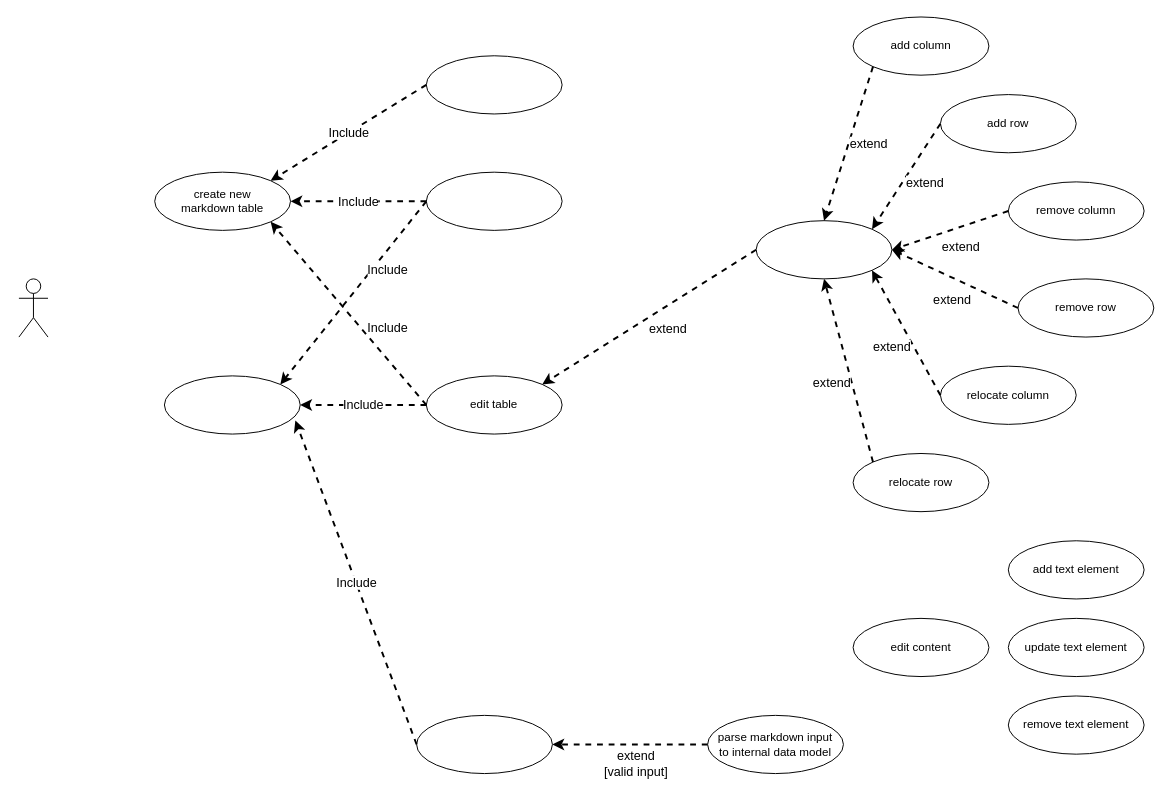
The diagram is 1171 pixels wide and 795 high, and some of its shapes have lost their labels. Here are the shapes that lost their labels. From the top down, the centre of each, then its label:
the point at 493,84: insert initial table width and height number
the point at 493,200: parse internal data model to markdown
the point at 823,249: edit layout
the point at 33,307: User
the point at 231,404: edit existing markdown table
the point at 484,744: insert existing markdown table definition
